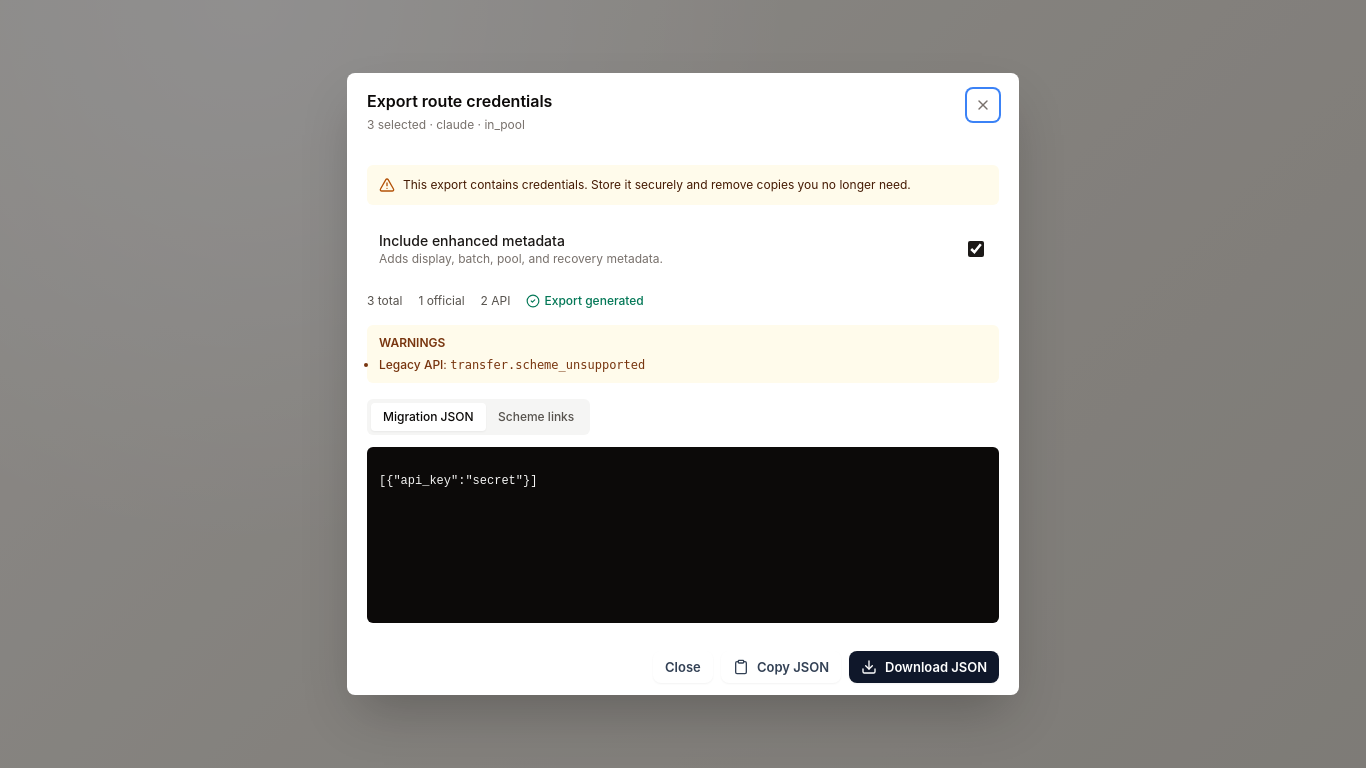
it: RouteCredentialExportDialog › keeps JSON available after a clipboard rejection
Expected: the text "[{\"api_key\":\"secret\"}]" is shown, [379, 474, 537, 488]
Click the button with aria-label "Copy migration JSON" at [781, 667], box [721, 651, 841, 683]
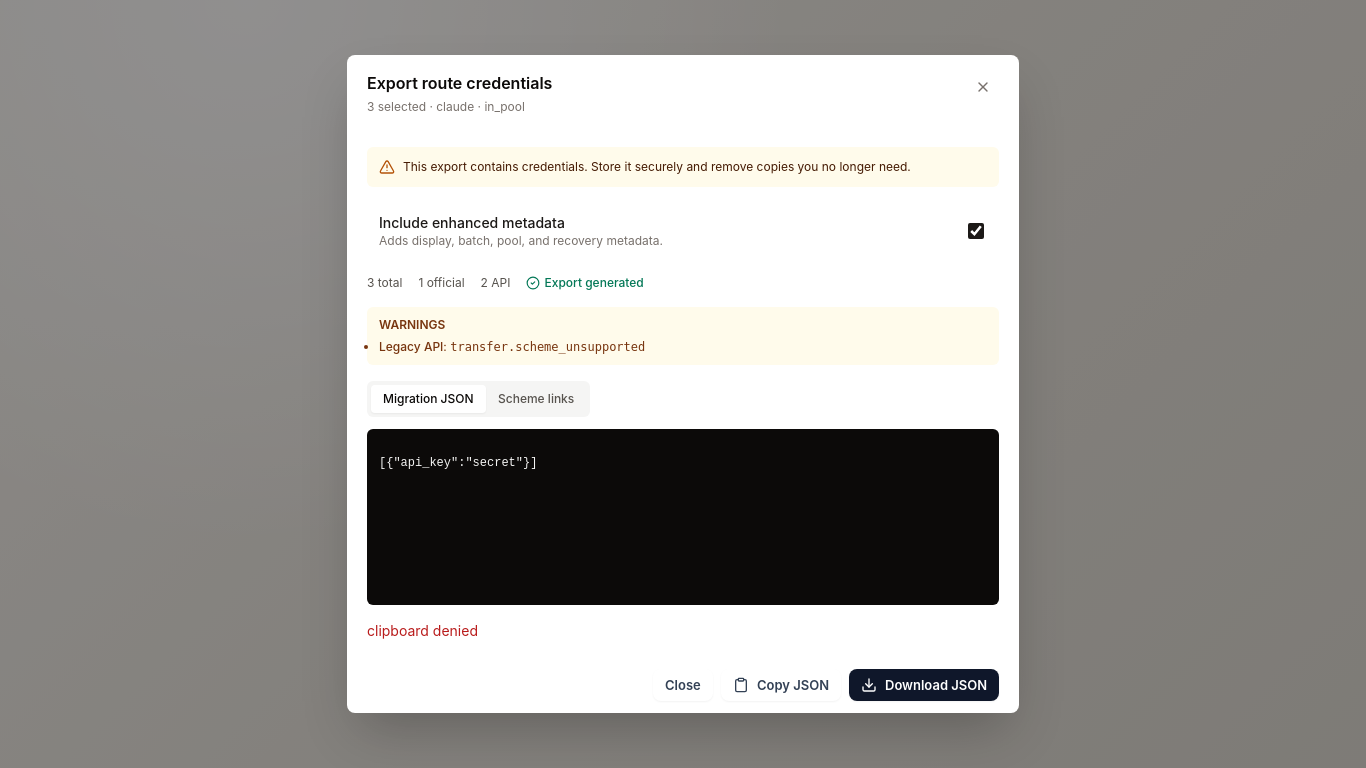
Expected: the text "[{\"api_key\":\"secret\"}]" is shown, [379, 456, 537, 470]
Now the text "clipboard denied" is shown, box [367, 622, 478, 639]
